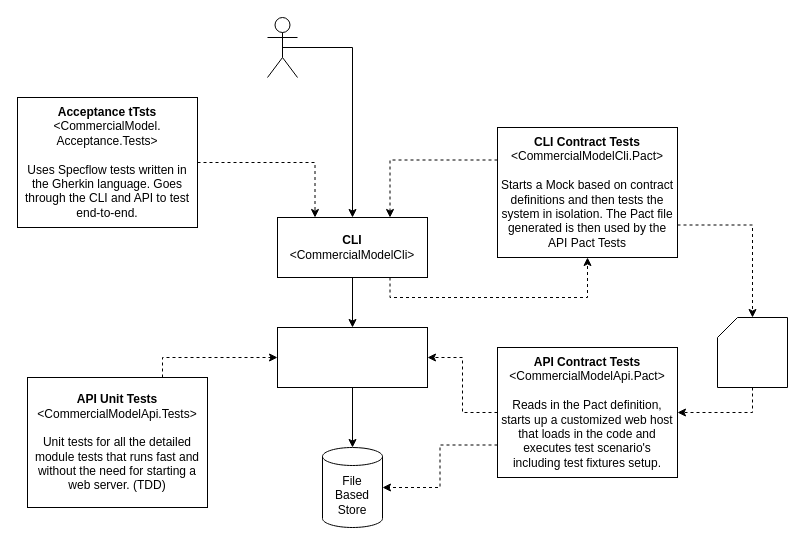
The diagram is 805 pixels wide and 545 high, and some of its shapes have lost their labels. Here are the shapes that lost their labels. From the top down, the centre of each, then its label:
At (282,47): "User".
At (352,357): "API <CommercialModelApi>".
At (752,352): "Pact definition".
